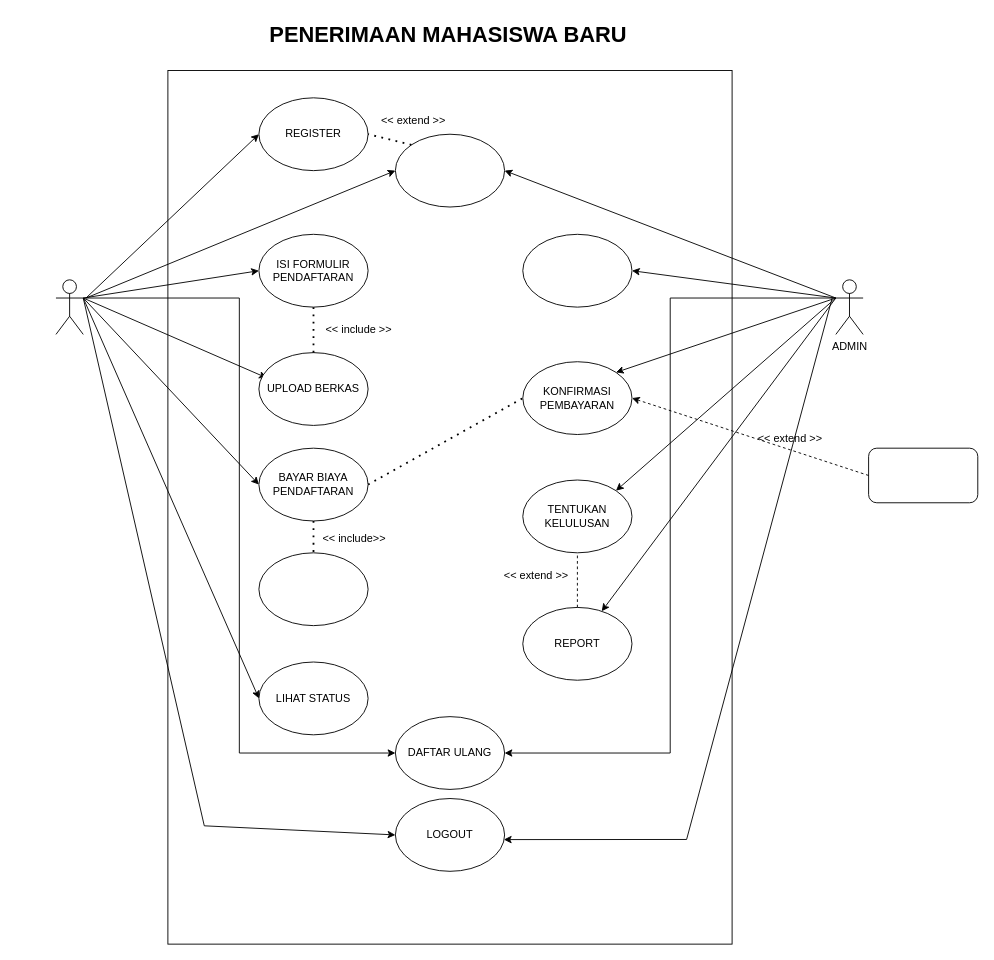
Image size: 994x960. Some labels were removed from this diagram. The shapes that lost their labels are listed below. From the top down, each one's box as (x1, y1, x2, y2) in pixels, then its label:
(394, 133, 505, 207): LOGIN
(522, 233, 632, 307): VERIFIKASI BERKAS
(55, 279, 83, 334): CALON MAHASISWA
(868, 447, 978, 503): SISTEM PEMBAYARAN
(258, 552, 368, 626): TES / UJIAN
